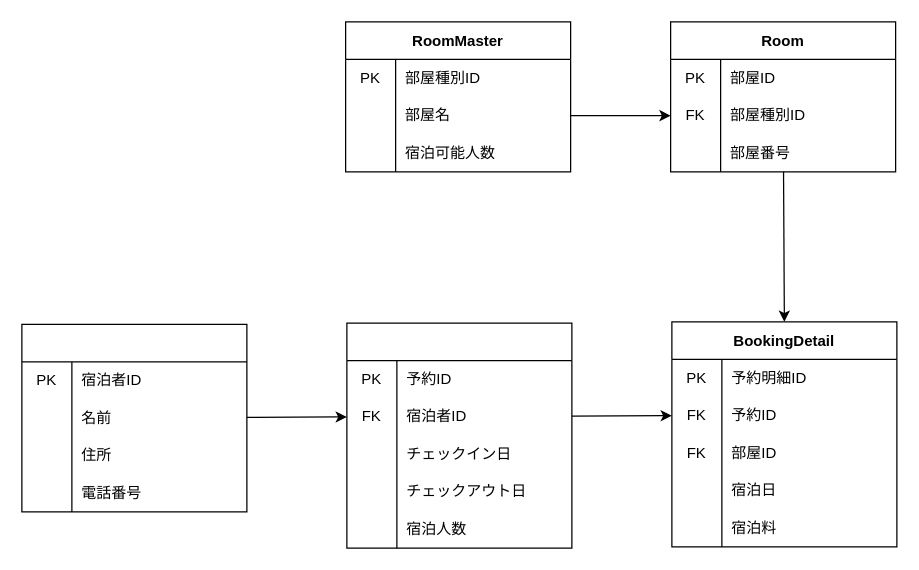
Image size: 919x570. Some labels were removed from this diagram. The box of each missing label's shape, as (x1, y1, x2, y2) in pixels:
Booking: (346, 322, 572, 548)
Guest: (21, 323, 247, 512)
